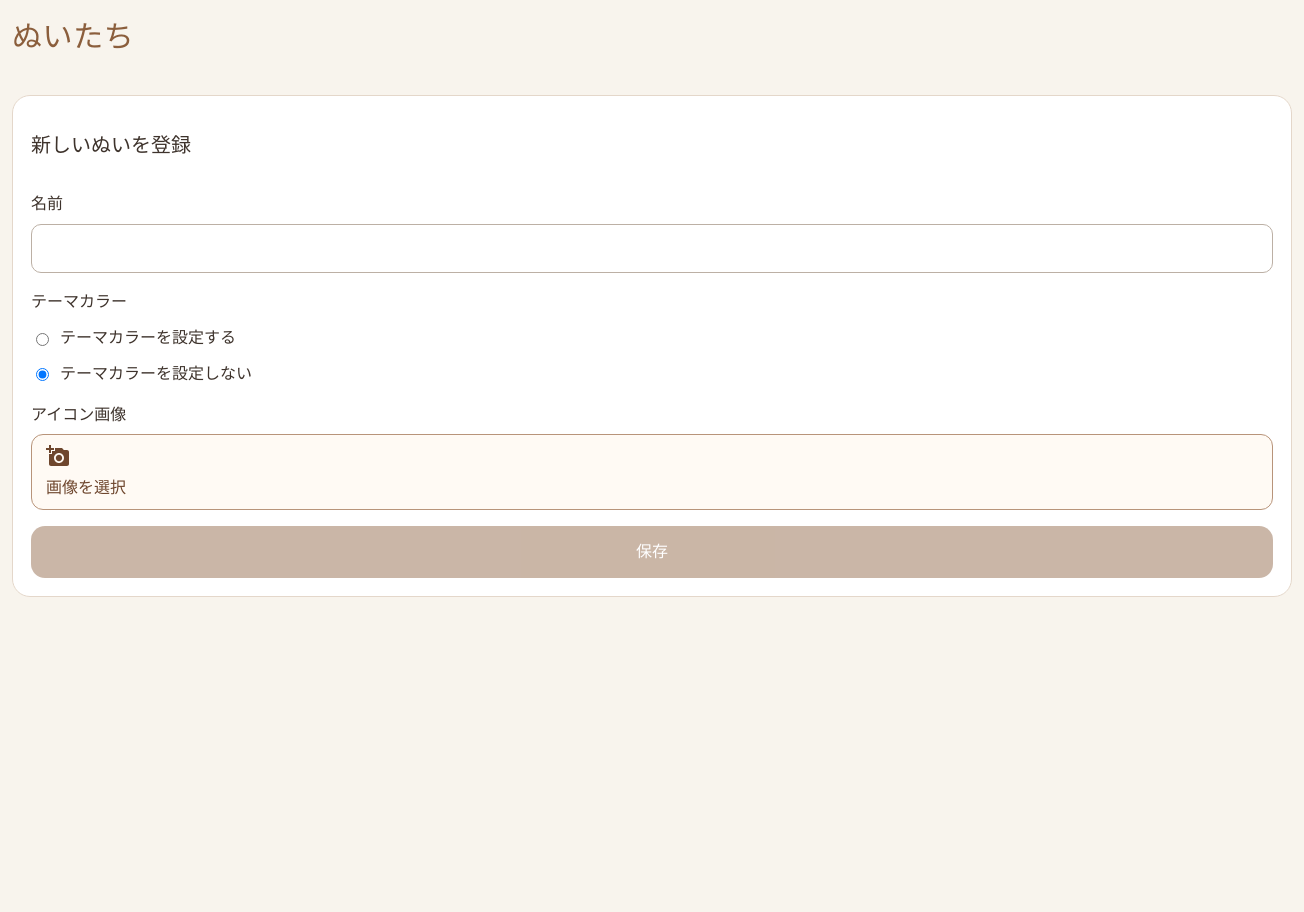
Scenario: ぬいぐるみのテーマカラー設定 › 新規登録時は設定しないが選ばれ、設定する場合だけ色を選択できる
Expected: the icon with test id "AddAPhotoIcon" is shown, [46, 444, 70, 468]
Expected: the radio button labelled "テーマカラーを設定しない" is checked, [36, 368, 49, 381]
Step 1. Click the radio button labelled "テーマカラーを設定する" → (42, 339), box [36, 333, 49, 346]
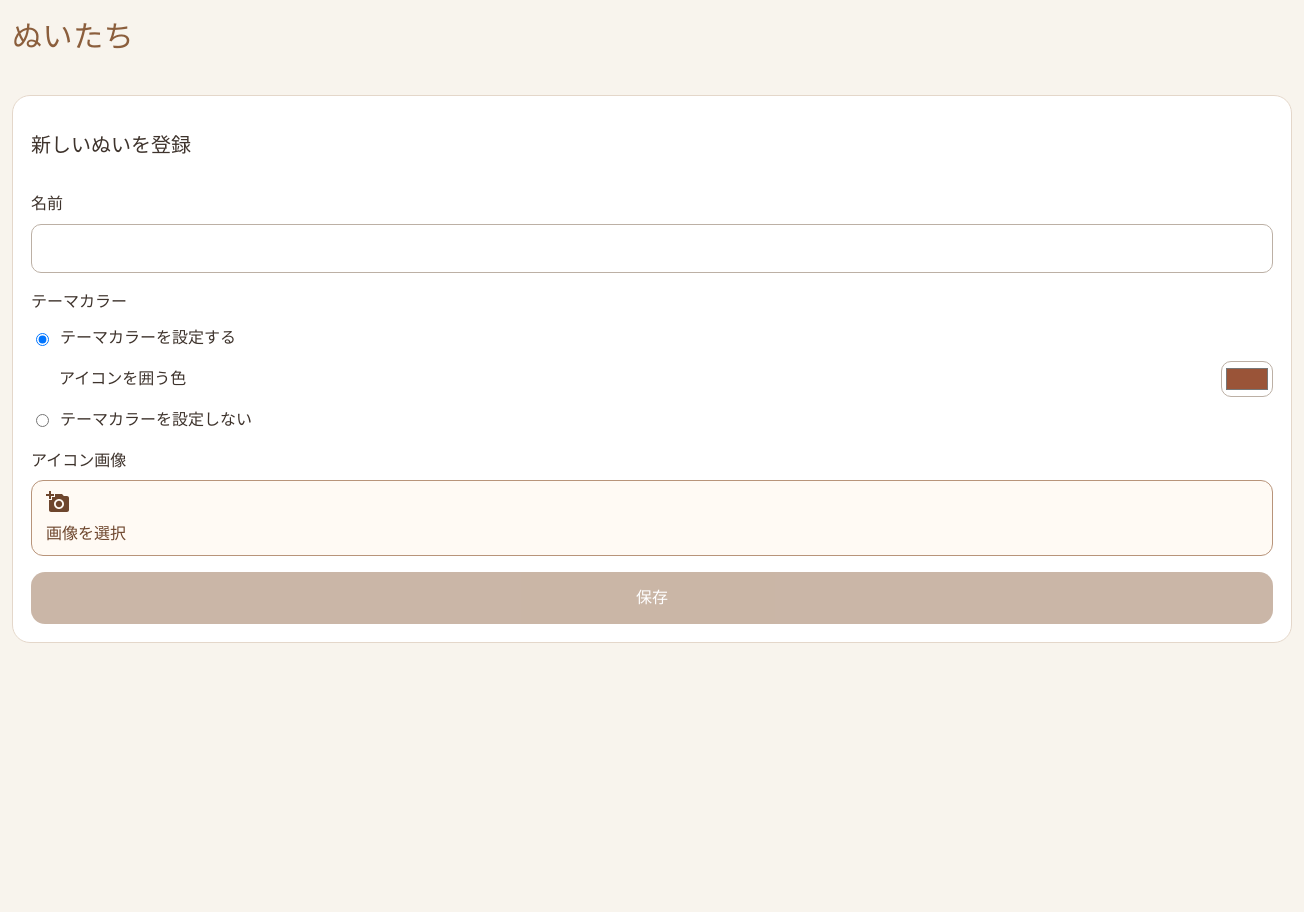
Expected: the radio button labelled "テーマカラーを設定する" is checked, [36, 333, 49, 346]
Expected: the radio button labelled "テーマカラーを設定しない" is not checked, [36, 414, 49, 427]
Expected: the colour field named "テーマカラー" is enabled, [1221, 361, 1273, 397]
